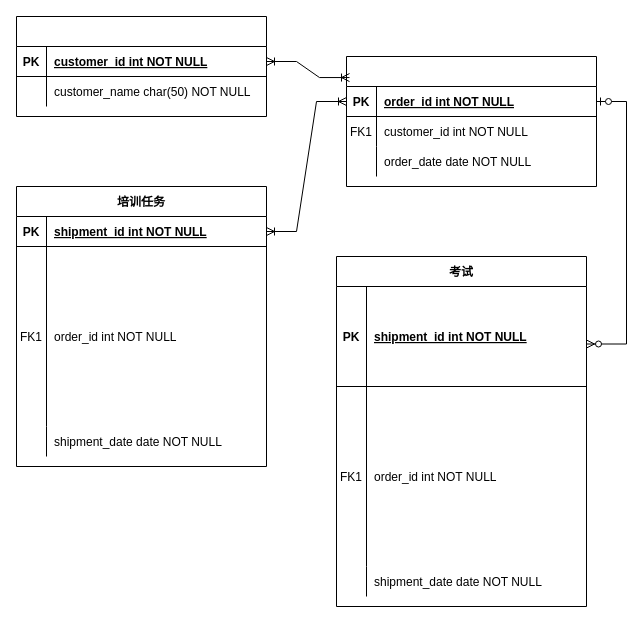
This 643x623 diagram has some shape labels left out. Here are the shapes that lost their labels. From the top down, the box of each, then its label:
(16, 16, 266, 116): 课件
(346, 56, 596, 186): 课程
